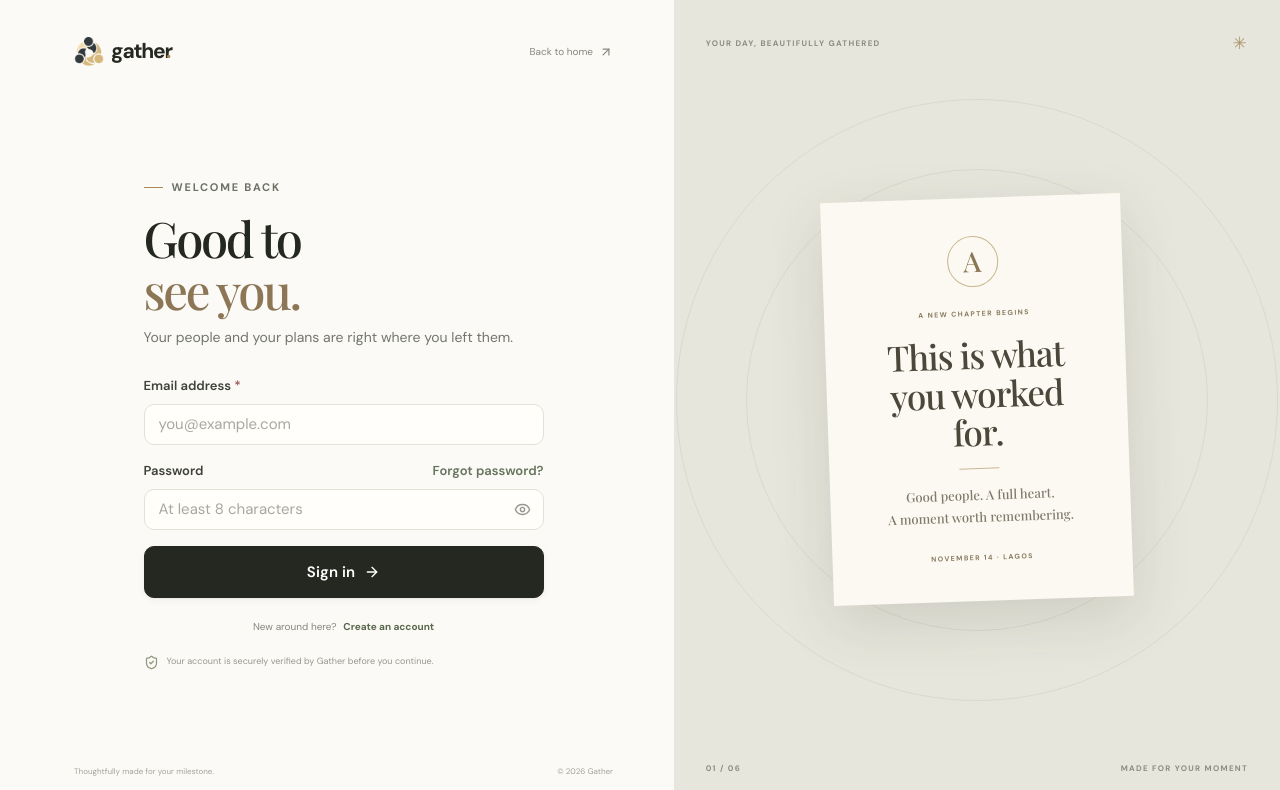
Test case: AuthPage › signs in with valid credentials and leaves the login screen
The image size is (1280, 790).
Type "ada@example.com" into the field labelled "Email address *" at {"x": 344, "y": 424}, box [144,404,544,445]
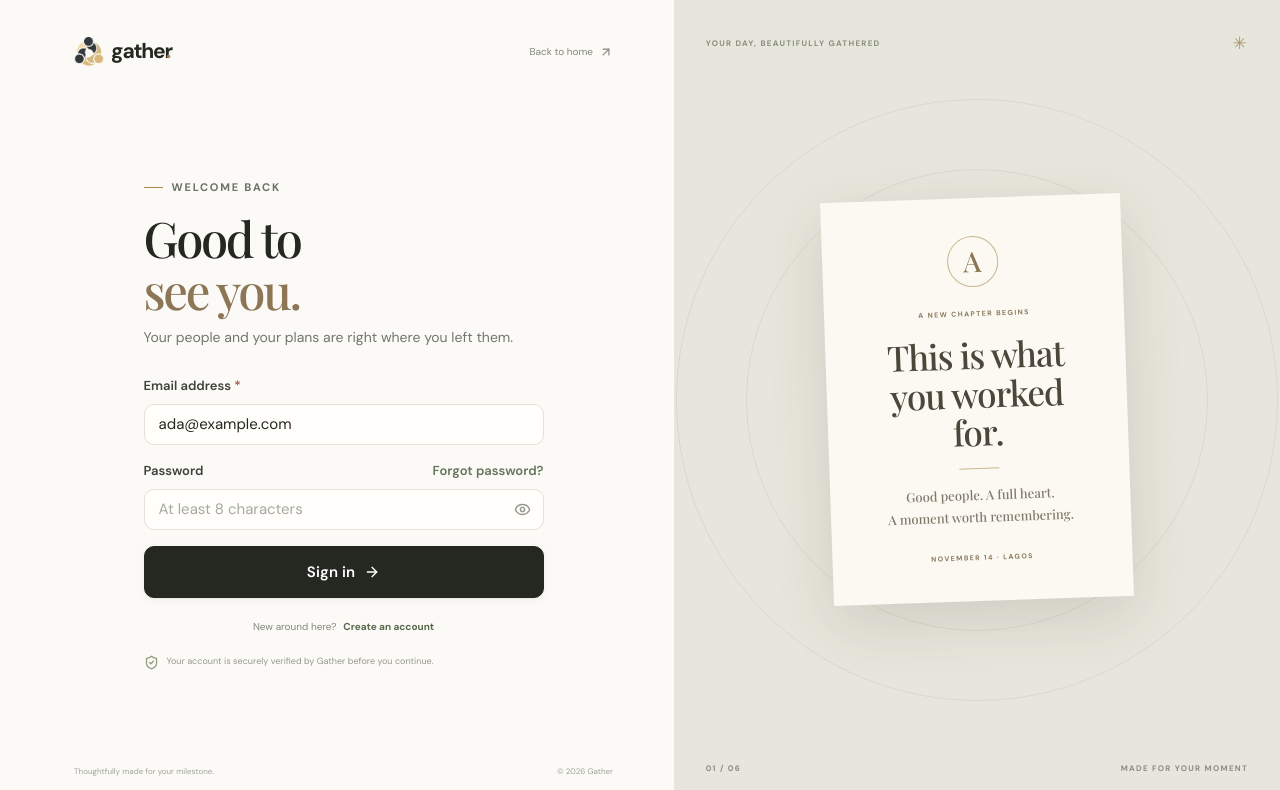
Type "password123" into the password field labelled "Password" at {"x": 344, "y": 509}, box [144,489,544,530]
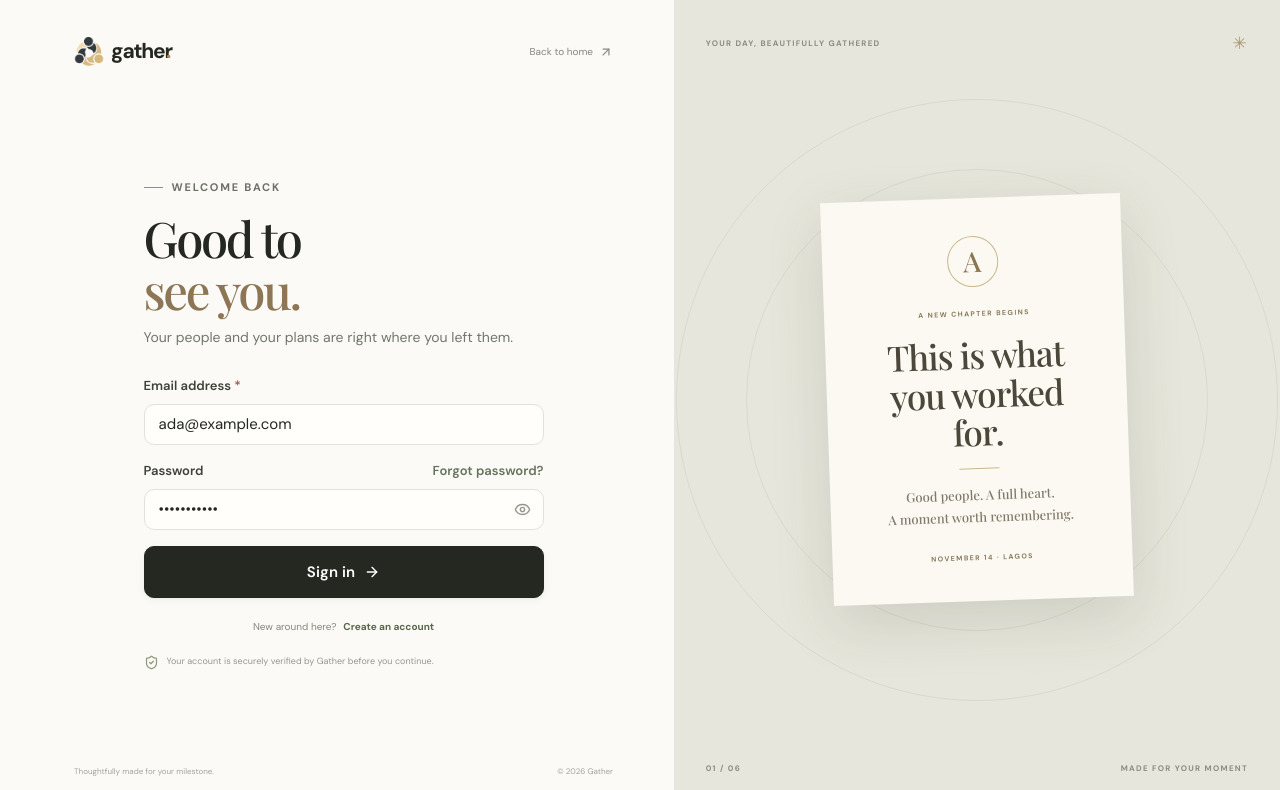
Click the button "Sign in" at {"x": 344, "y": 572}, box [144,546,544,598]
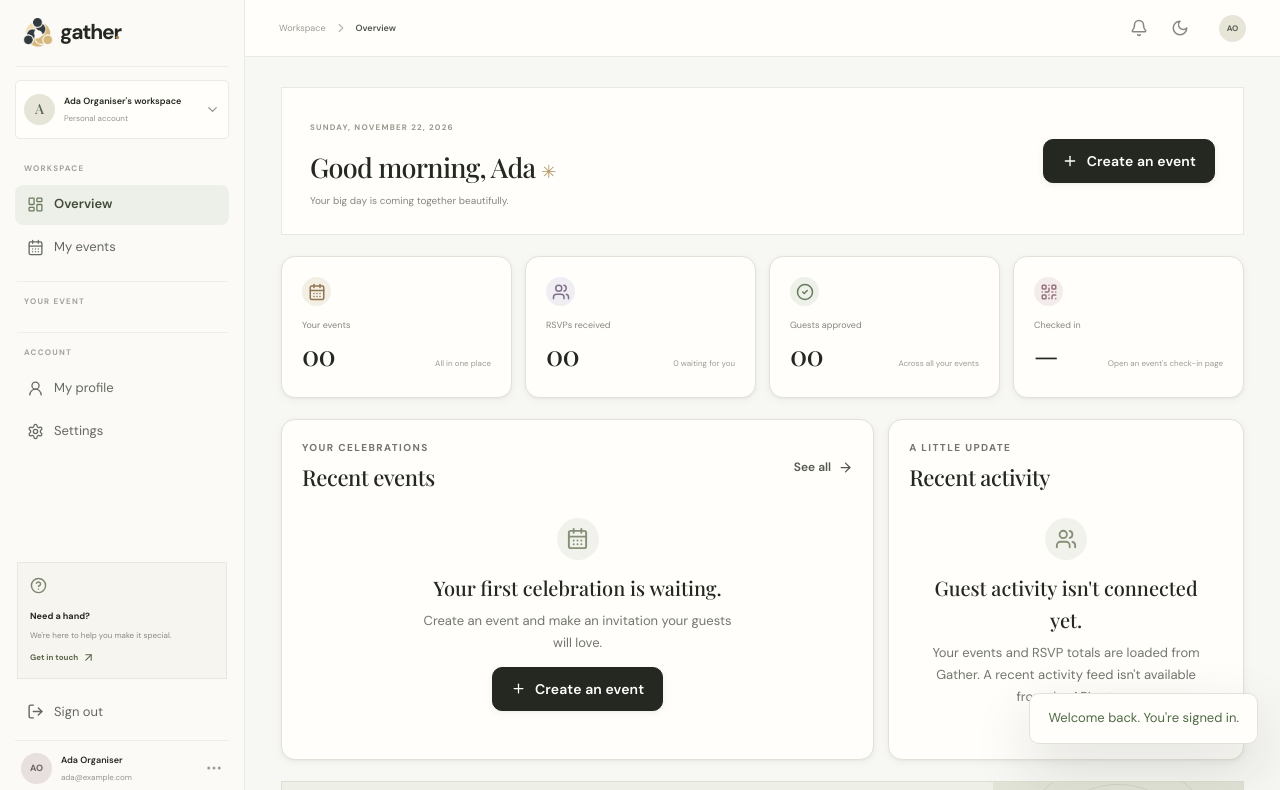
Expected: the label labelled "Email address" is gone
